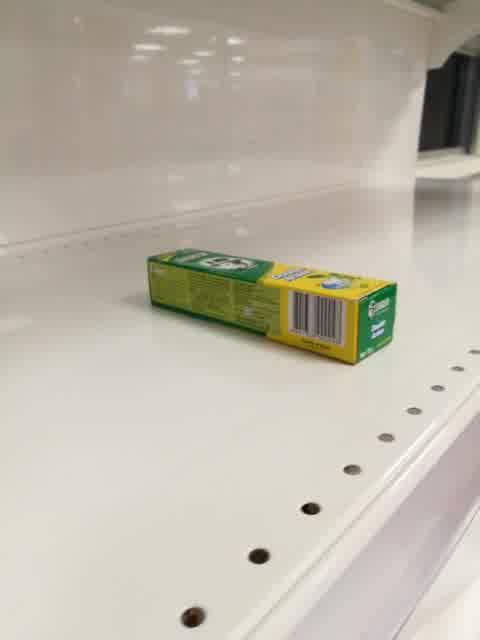toothpaste: (146, 247, 397, 368)
